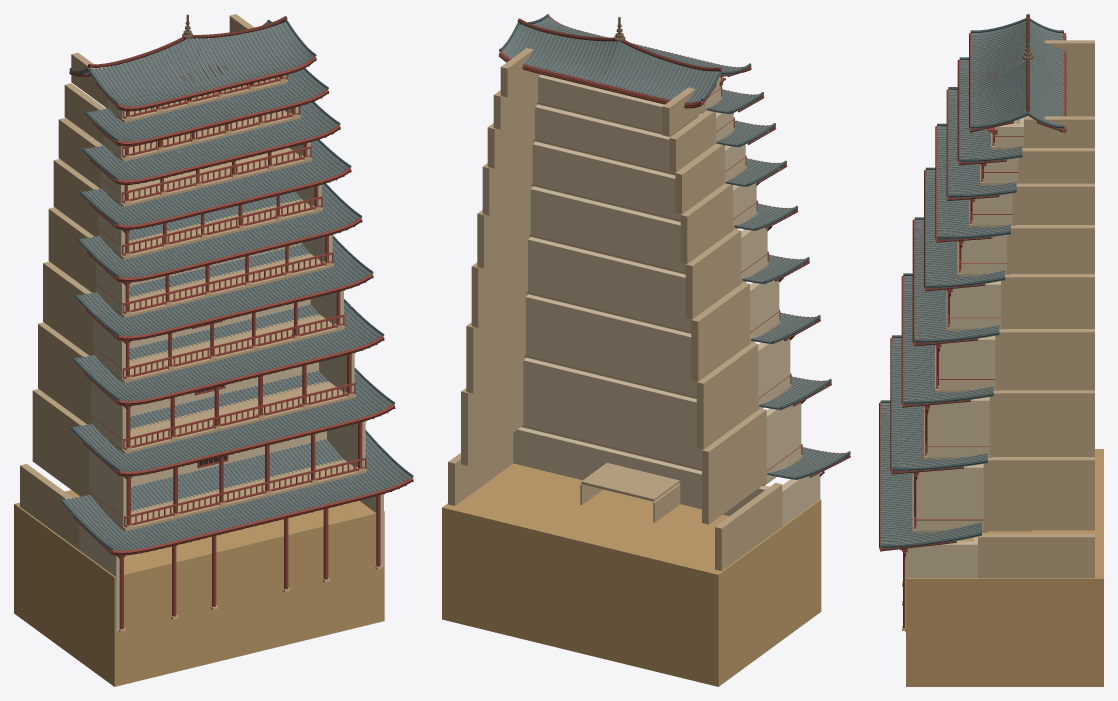
File: tower.glb
The picture shows the model from 3 angles, left to right: view 1: azimuth 30°, elevation 25°; view 2: azimuth 150°, elevation 25°; view 3: azimuth 270°, elevation 25°; orthographic projection. The views are drawn at different scales.
Visible parts, largest first — view 1: tower-recess-1, tower-roof-1-tile, tower-roof-9-tile, tower-storey-03-plaster-side, tower-roof-2-tile, tower-storey-02-plaster-side, tower-roof-3-tile, tower-roof-4-tile, tower-storey-04-plaster-side, tower-roof-5-tile, tower-roof-1-tile-edge, tower-recess-2 (+54 smaller); view 2: tower-recess-1, tower-storey-02-plaster, tower-storey-03-plaster, tower-storey-04-plaster, tower-storey-02-plaster-side, tower-recess-2, tower-storey-03-plaster-side, tower-storey-05-plaster, tower-storey-01-plaster-side, tower-storey-04-plaster-side, tower-storey-06-plaster, tower-storey-01-plaster (+23 smaller); view 3: tower-recess-1, tower-storey-02-plaster-side, tower-storey-03-plaster-side, tower-storey-04-plaster-side, tower-storey-05-plaster-side, tower-storey-01-plaster-side, tower-roof-9-tile-edge, tower-storey-06-plaster-side, tower-storey-02-plaster, tower-storey-07-plaster-side, tower-roof-9-tile, tower-storey-08-plaster-side (+32 smaller).
Part boxes in pixels (bbox=[...]): tower-recess-1: bbox=[14, 490, 384, 686]; tower-roof-1-tile: bbox=[61, 433, 410, 551]; tower-roof-9-tile: bbox=[91, 22, 315, 106]; tower-storey-03-plaster-side: bbox=[38, 322, 355, 453]; tower-roof-2-tile: bbox=[71, 371, 392, 472]; tower-storey-02-plaster-side: bbox=[32, 389, 366, 531]; tower-roof-3-tile: bbox=[73, 302, 381, 401]; tower-roof-4-tile: bbox=[75, 238, 371, 336]; tower-storey-04-plaster-side: bbox=[43, 261, 344, 383]; tower-roof-5-tile: bbox=[78, 184, 359, 278]; tower-roof-1-tile-edge: bbox=[64, 437, 412, 550]; tower-recess-2: bbox=[127, 526, 371, 634]; tower-recess-1: bbox=[442, 463, 821, 686]; tower-storey-02-plaster: bbox=[523, 357, 801, 481]; tower-storey-03-plaster: bbox=[525, 294, 790, 409]; tower-storey-04-plaster: bbox=[528, 236, 779, 343]; tower-storey-02-plaster-side: bbox=[461, 357, 802, 524]; tower-recess-2: bbox=[455, 522, 705, 672]; tower-storey-03-plaster-side: bbox=[466, 293, 791, 449]; tower-storey-05-plaster: bbox=[530, 186, 767, 283]; tower-storey-01-plaster-side: bbox=[448, 433, 782, 570]; tower-storey-04-plaster-side: bbox=[471, 236, 780, 381]; tower-storey-06-plaster: bbox=[532, 141, 756, 230]; tower-storey-01-plaster: bbox=[513, 427, 820, 526]; tower-recess-1: bbox=[906, 449, 1103, 686]; tower-storey-02-plaster-side: bbox=[912, 390, 1094, 532]; tower-storey-03-plaster-side: bbox=[924, 328, 1094, 459]; tower-storey-04-plaster-side: bbox=[935, 329, 1094, 392]; tower-storey-05-plaster-side: bbox=[946, 183, 1094, 330]; tower-storey-01-plaster-side: bbox=[978, 530, 1094, 578]; tower-roof-9-tile-edge: bbox=[970, 22, 1027, 125]; tower-storey-06-plaster-side: bbox=[957, 147, 1094, 276]; tower-storey-02-plaster: bbox=[916, 464, 983, 530]; tower-storey-07-plaster-side: bbox=[969, 100, 1094, 227]; tower-roof-9-tile: bbox=[970, 20, 1027, 129]; tower-storey-08-plaster-side: bbox=[980, 71, 1094, 185].
Bounding box in the file's own units: 26.44 × 49.57 × 17.27.
